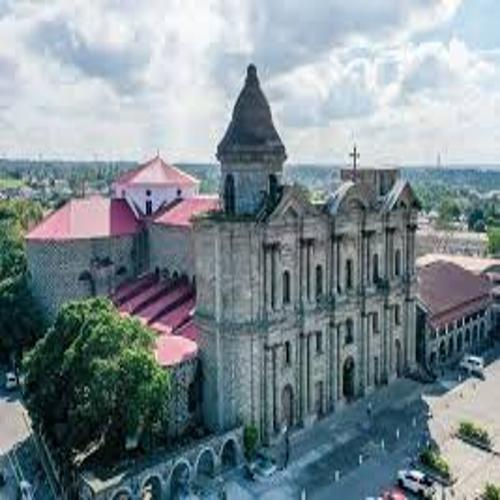Taal Basilica Church: (189, 55, 424, 442)
